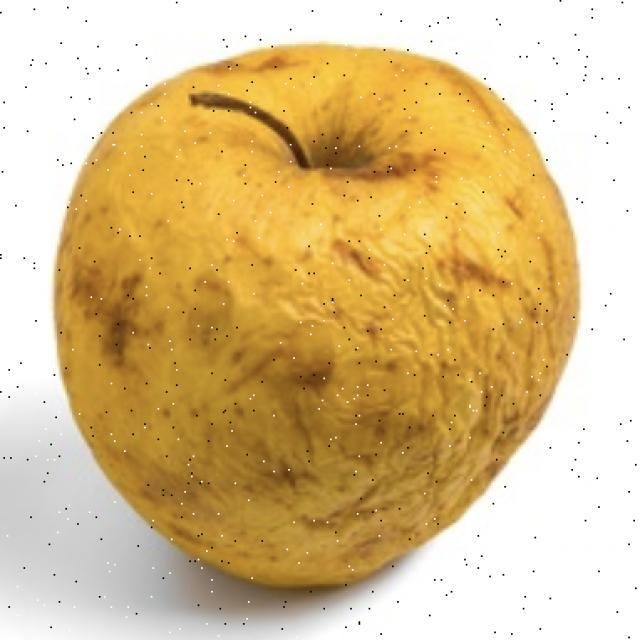Rotten: (52, 61, 560, 576)
